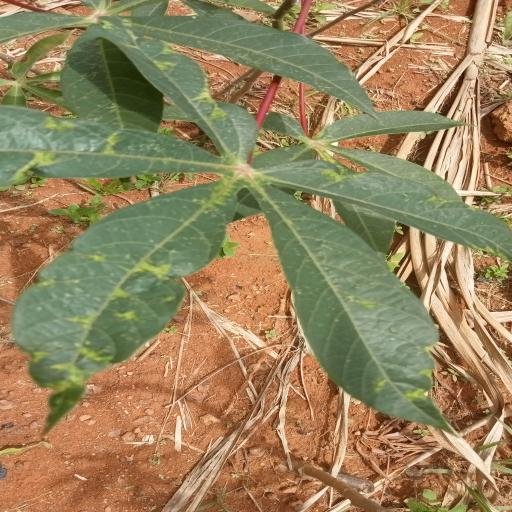Cassava_Mosaic: (3, 92, 512, 436), (0, 0, 390, 148)
